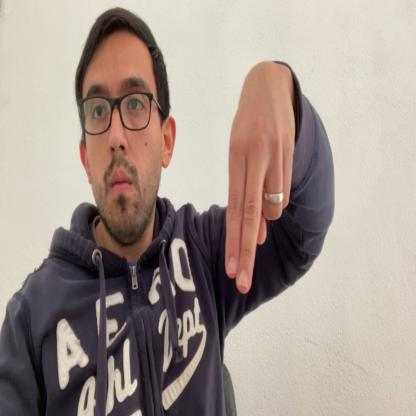N: (224, 63, 297, 293)
